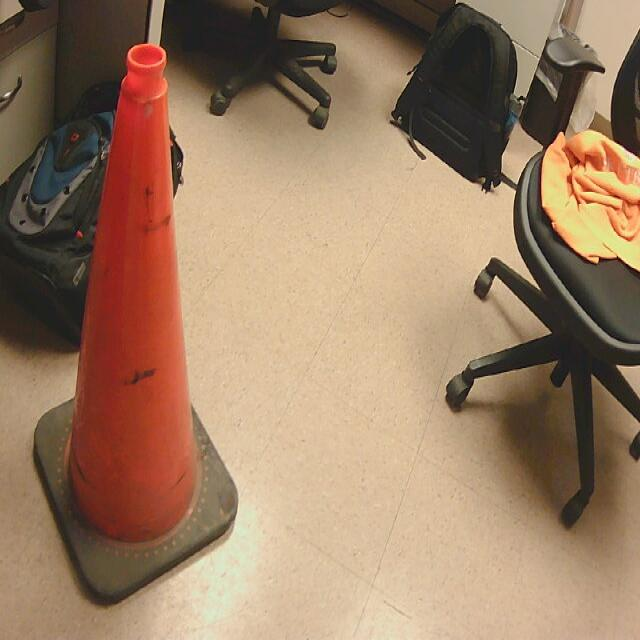traffic cone: (34, 45, 240, 606)
